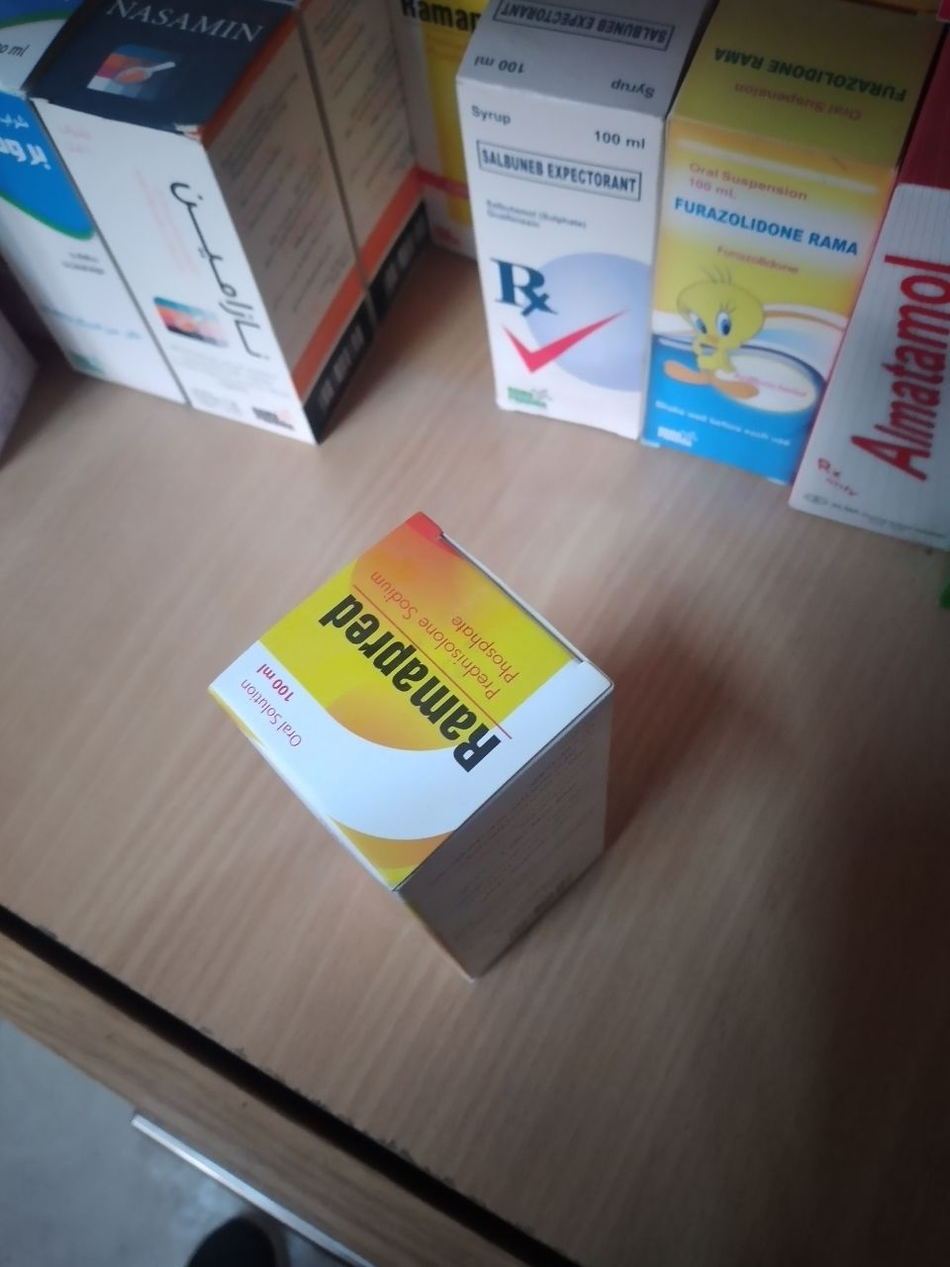Medicine: (195, 495, 656, 993)
